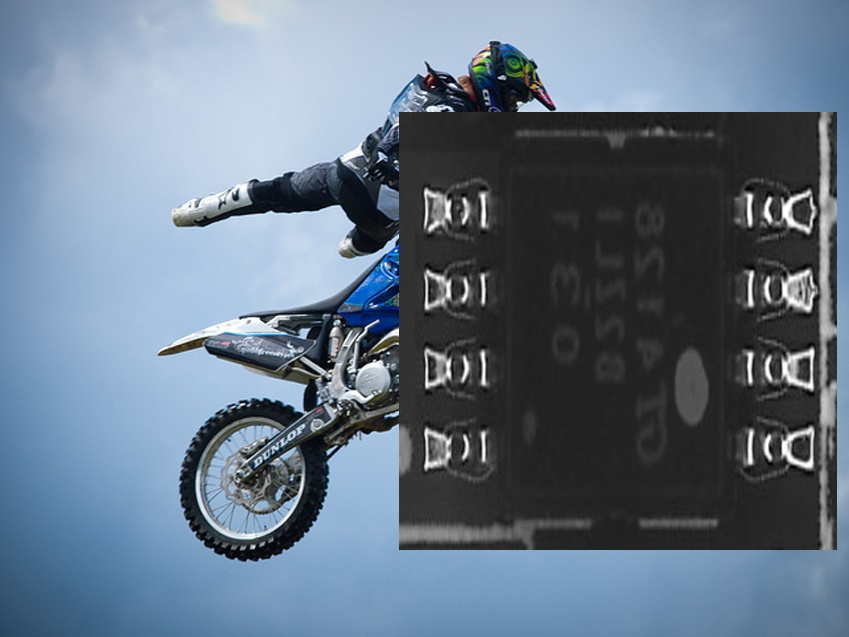PAD: (711, 150, 824, 506), (408, 152, 519, 506)
motorcycle: (153, 136, 652, 564)
